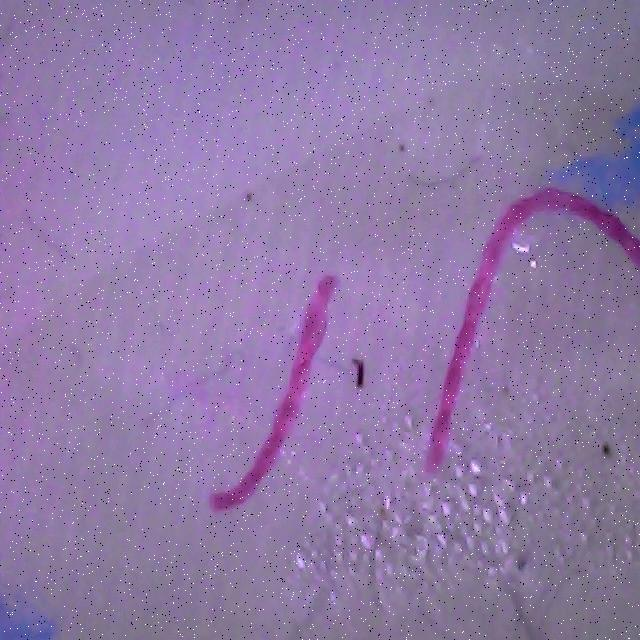fibers: (196, 271, 367, 524), (1, 0, 1, 1)
